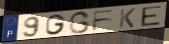9: (23, 15, 42, 37)
E: (140, 5, 163, 28)
F: (91, 9, 116, 32)
G: (67, 10, 91, 35), (44, 13, 67, 36)
K: (118, 7, 137, 29)
